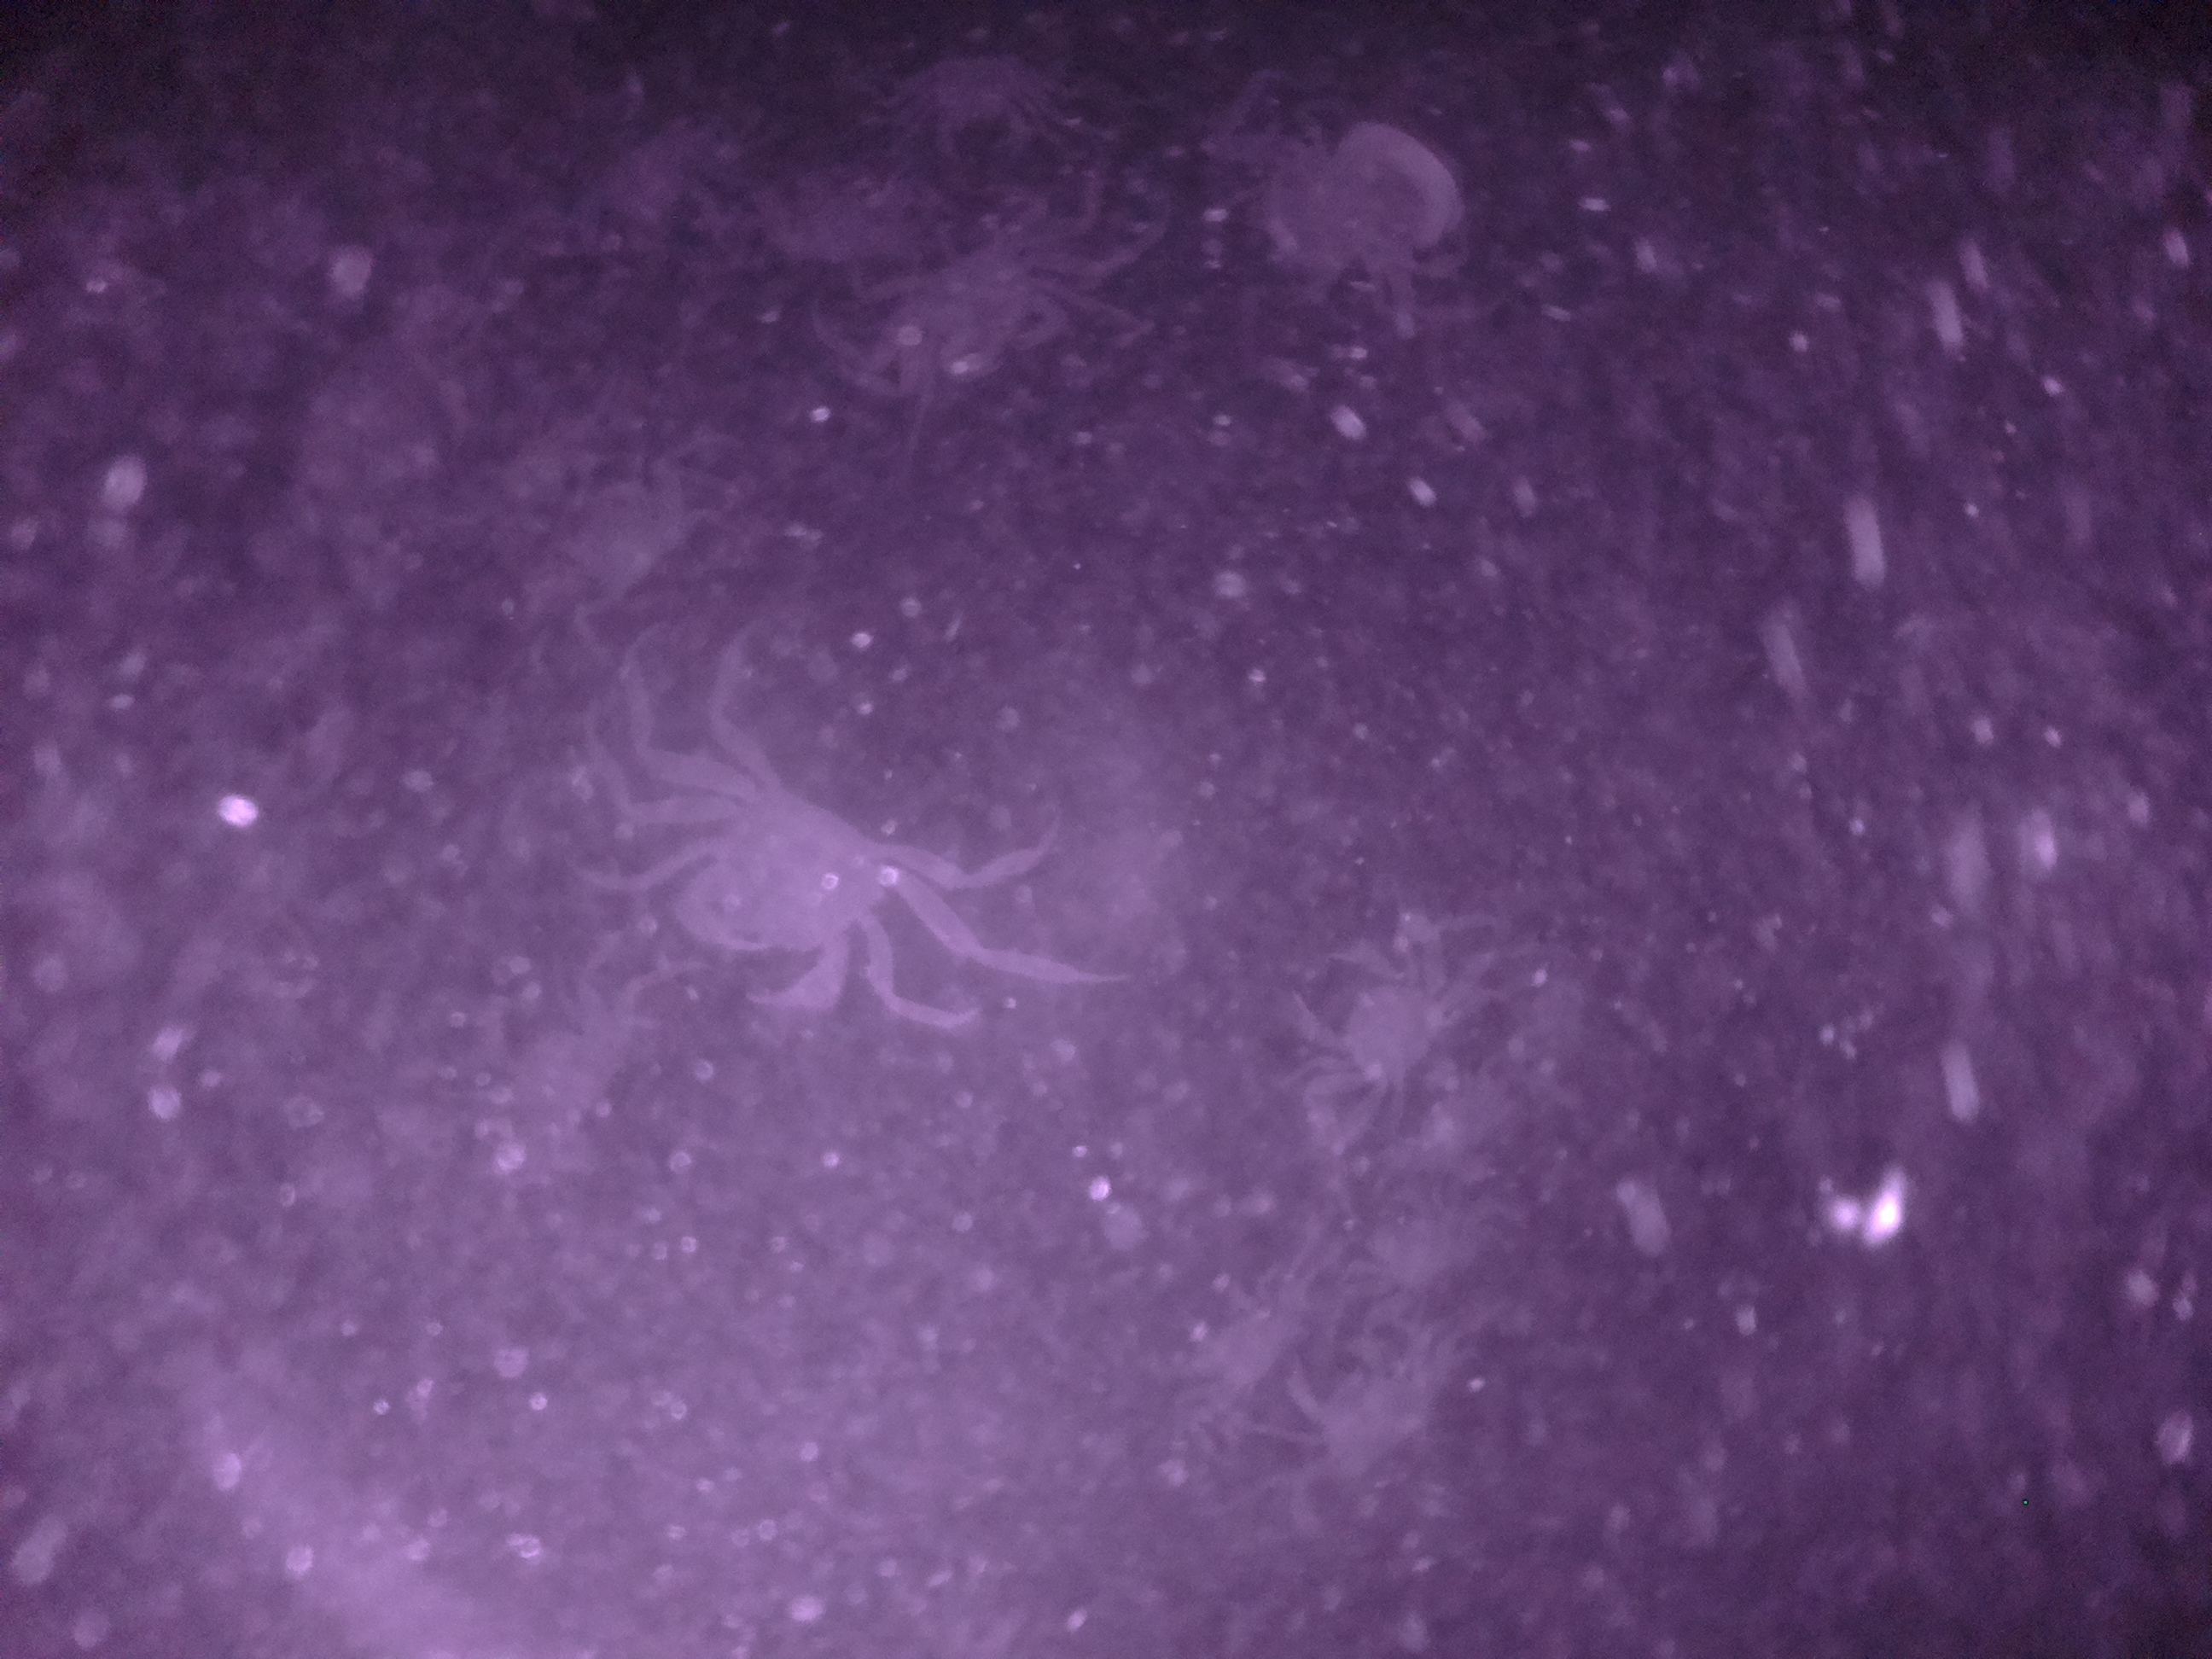Crab: (1282, 890, 1472, 1134), (887, 197, 1089, 404)
